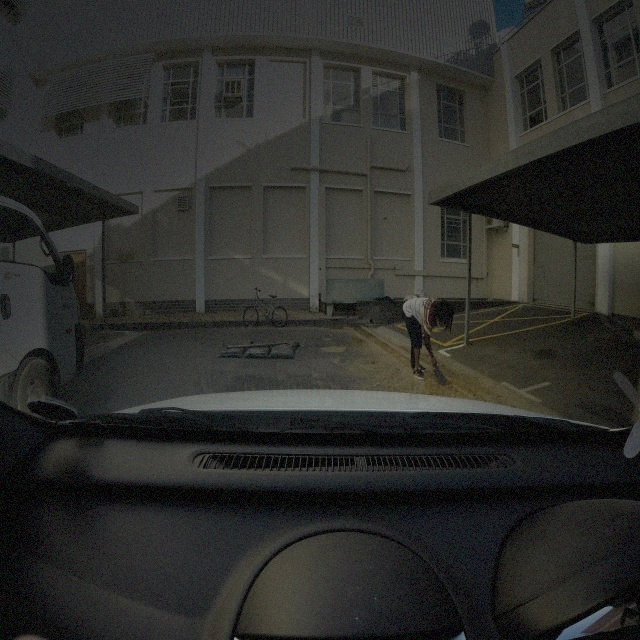pothole: (318, 342, 348, 352)
